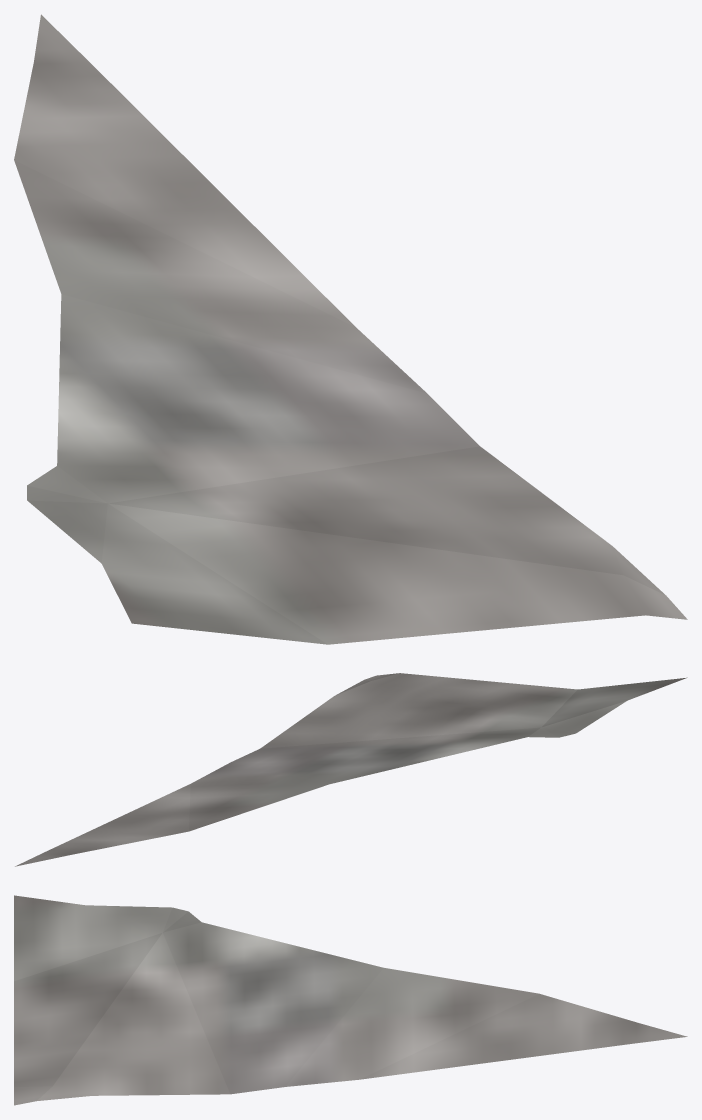
3 renders of one model, top to bottom at view 1: azimuth 30°, elevation 25°; view 2: azimuth 150°, elevation 25°; view 3: azimuth 270°, elevation 25°, orthographic. The views are drawn at different scales.
Size of the model in its own units: 0.0761 by 0.0173 by 0.1533.
1 material, 1 textured.
